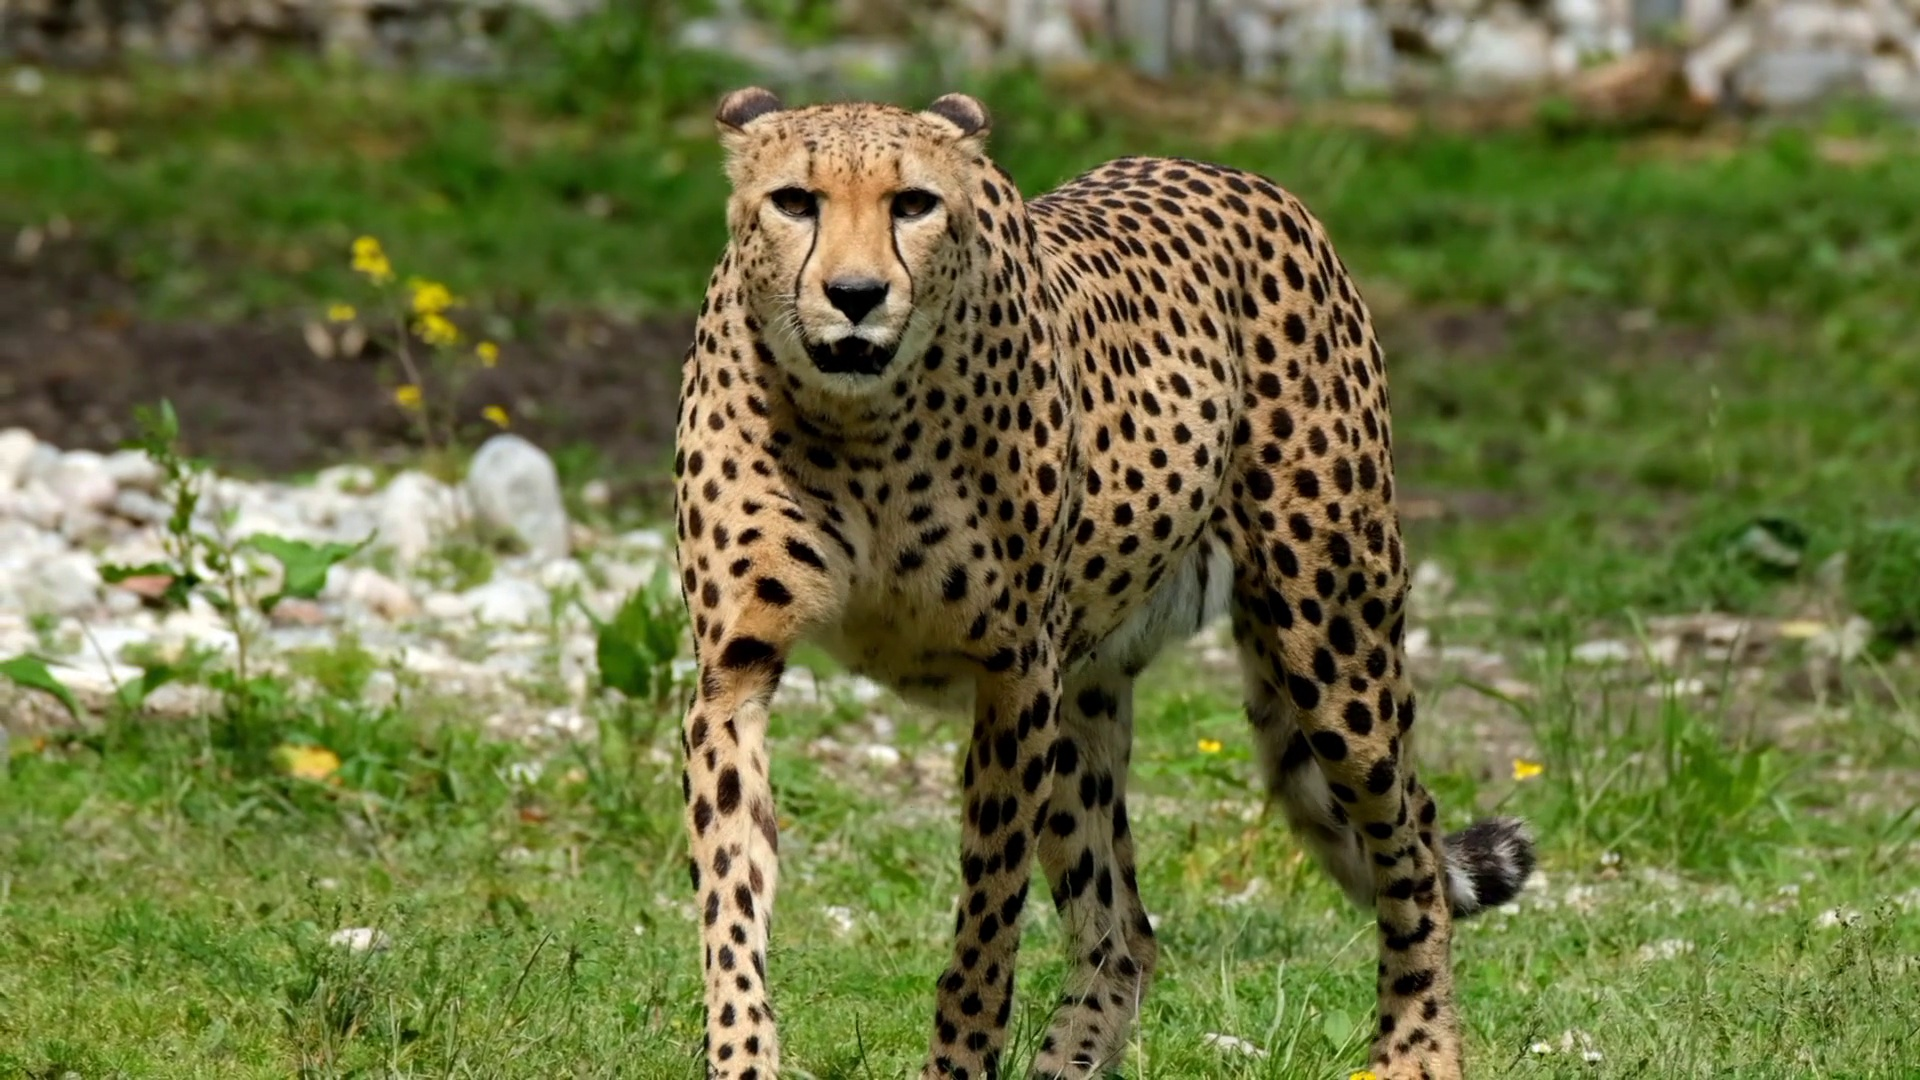Cheetah: (661, 86, 1539, 1080)
